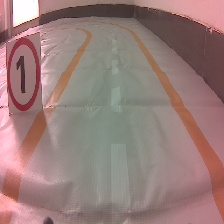limit: (5, 32, 47, 116)
